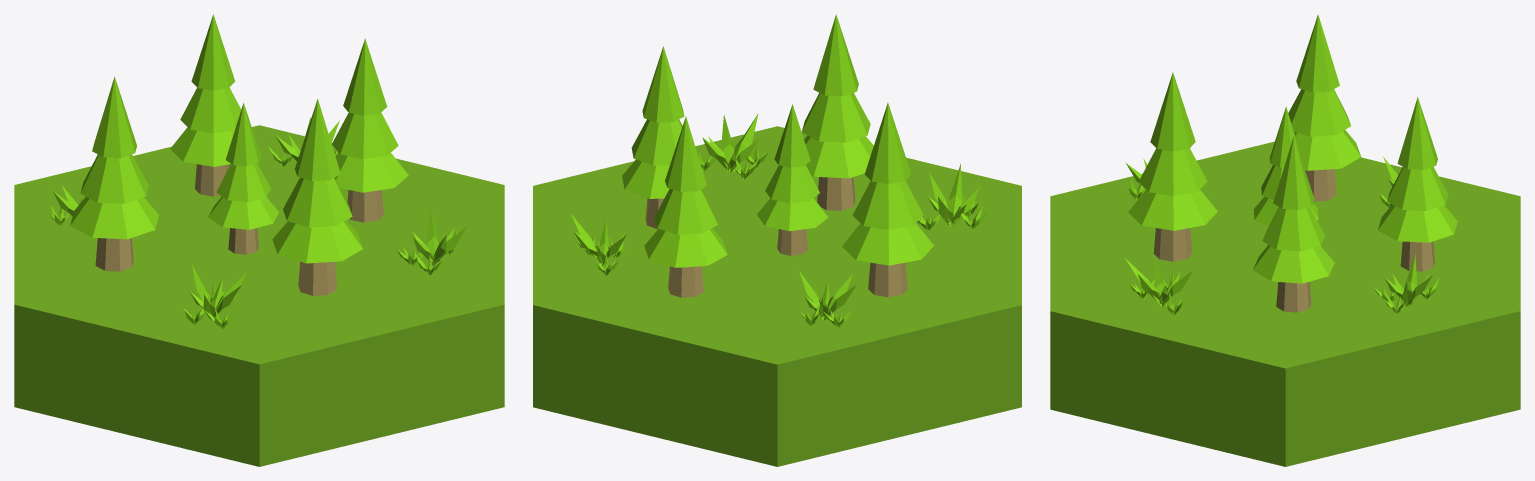
Rendered from Pinos_Bajos.fbx.
3 views of the same model, side by side, from view 1: azimuth 30°, elevation 25°; view 2: azimuth 150°, elevation 25°; view 3: azimuth 270°, elevation 25° (orthographic). The views are drawn at different scales.
Visible parts, largest first — view 1: Pinos_Bajos; view 2: Pinos_Bajos; view 3: Pinos_Bajos.
Boxes of the visible parts, x1,y1,x2,y2 form: Pinos_Bajos: [14, 14, 504, 466]; Pinos_Bajos: [533, 14, 1021, 466]; Pinos_Bajos: [1050, 14, 1520, 466].
Size of the model in its own units: 200 by 114 by 173.
